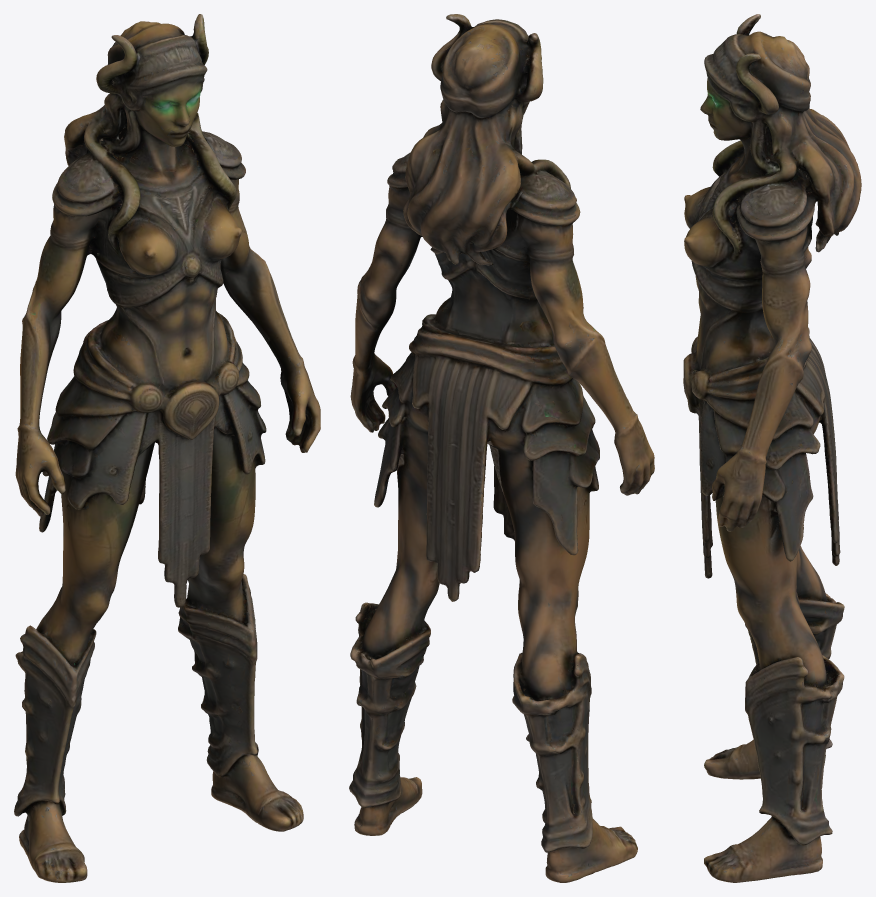
File: Bronze Sentinel_final.glb
3 renders of one model, left to right at view 1: azimuth 30°, elevation 25°; view 2: azimuth 150°, elevation 25°; view 3: azimuth 270°, elevation 25°, orthographic. The views are drawn at different scales.
Visible parts, largest first — view 1: Mesh_0; view 2: Mesh_0; view 3: Mesh_0.
Boxes of the visible parts, bbox=[...] form: Mesh_0: bbox=[14, 14, 320, 882]; Mesh_0: bbox=[349, 14, 654, 882]; Mesh_0: bbox=[683, 14, 861, 882].
Size of the model in its own units: 1.91 by 5 by 1.03.
1 material, 1 textured.
